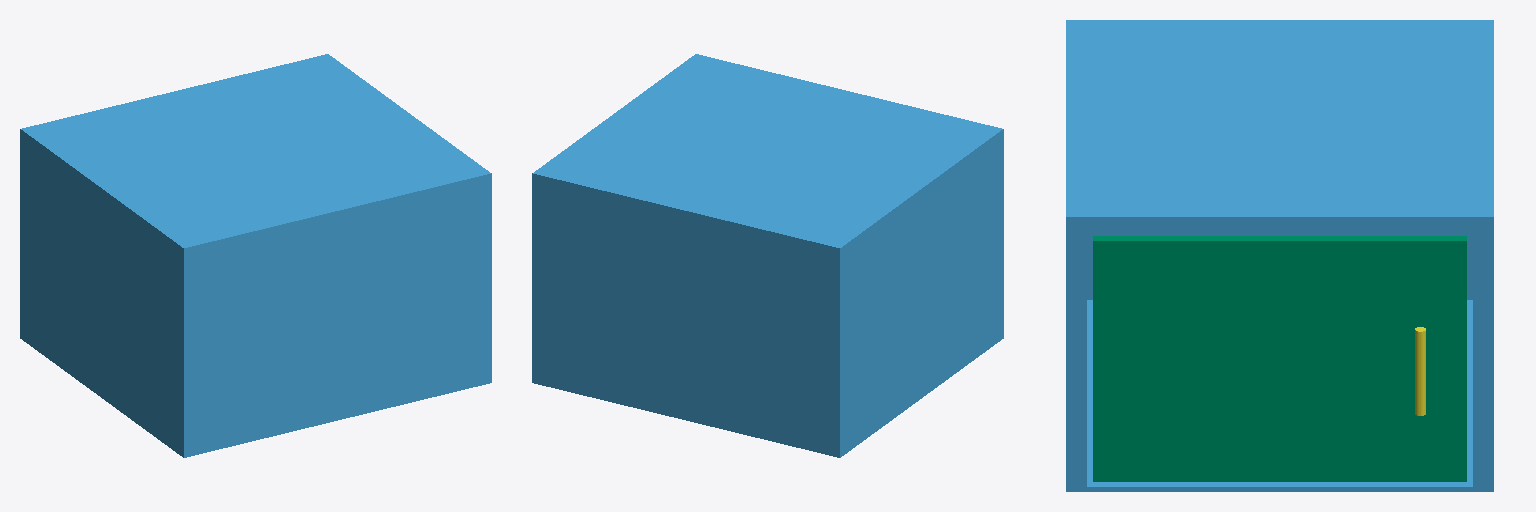
robot.urdf — my_cabinet:
<?xml version="1.0" ?>
<robot name="my_cabinet">
	<link name="world"/>
	<joint name="virtual_joint" type="fixed">
		<parent link="world"/>
		<child link="base_cabinet_link"/>
		<origin xyz="0.0 0.0 0.0" rpy="0.0 0.0 0.0"/>
	</joint>
	<link name="base_cabinet_link">
		<visual>
			<origin xyz="0.0 0.0 -0.12123254858449616" rpy="0.0 0.0 0.0"/>
			<geometry>
				<box size="0.4 0.3678464520734214 0.004"/>
			</geometry>
		</visual>
		<collision name="base_cabinet_link_collision_0">
			<origin xyz="0.0 0.0 -0.12123254858449616" rpy="0.0 0.0 0.0"/>
			<geometry>
				<box size="0.4 0.3678464520734214 0.004"/>
			</geometry>
		</collision>
		<visual>
			<origin xyz="0.0 0.1749232260367107 0.007" rpy="0.0 0.0 0.0"/>
			<geometry>
				<box size="0.4 0.018 0.2604650971689923"/>
			</geometry>
		</visual>
		<collision name="base_cabinet_link_collision_1">
			<origin xyz="0.0 0.1749232260367107 0.007" rpy="0.0 0.0 0.0"/>
			<geometry>
				<box size="0.4 0.018 0.2604650971689923"/>
			</geometry>
		</collision>
		<visual>
			<origin xyz="0.0 -0.1749232260367107 0.007" rpy="0.0 0.0 0.0"/>
			<geometry>
				<box size="0.4 0.018 0.2604650971689923"/>
			</geometry>
		</visual>
		<collision name="base_cabinet_link_collision_2">
			<origin xyz="0.0 -0.1749232260367107 0.007" rpy="0.0 0.0 0.0"/>
			<geometry>
				<box size="0.4 0.018 0.2604650971689923"/>
			</geometry>
		</collision>
		<visual>
			<origin xyz="0.0 0.0 0.12823254858449615" rpy="0.0 0.0 0.0"/>
			<geometry>
				<box size="0.4 0.3678464520734214 0.018"/>
			</geometry>
		</visual>
		<collision name="base_cabinet_link_collision_3">
			<origin xyz="0.0 0.0 0.12823254858449615" rpy="0.0 0.0 0.0"/>
			<geometry>
				<box size="0.4 0.3678464520734214 0.018"/>
			</geometry>
		</collision>
		<visual>
			<origin xyz="-0.191 0.0 0.007" rpy="0.0 0.0 0.0"/>
			<geometry>
				<box size="0.018 0.3678464520734214 0.2604650971689923"/>
			</geometry>
		</visual>
		<collision name="base_cabinet_link_collision_4">
			<origin xyz="-0.191 0.0 0.007" rpy="0.0 0.0 0.0"/>
			<geometry>
				<box size="0.018 0.3678464520734214 0.2604650971689923"/>
			</geometry>
		</collision>
		<inertial>
			<mass value="0.200000"/>
			<inertia ixx="0.003386" ixy="0.0" ixz="0.0" iyy="0.003797" iyz="0.0" izz="0.004922"/>
		</inertial>
	</link>
	<link name="door_link">
		<visual>
			<origin xyz="0.0 -0.1509232260367107 0.0"/>
			<geometry>
				<box size="0.018 0.32184645207342144 0.2284650971689923"/>
			</geometry>
		</visual>
		<collision name="door_link_collision">
			<origin xyz="0.0 -0.1509232260367107 0.0"/>
			<geometry>
				<box size="0.018 0.32184645207342144 0.2284650971689923"/>
			</geometry>
		</collision>
		<inertial>
			<mass value="0.200000"/>
			<inertia ixx="0.002596" ixy="0.0" ixz="0.0" iyy="0.000875" iyz="0.0" izz="0.001732"/>
		</inertial>
	</link>
	<joint name="door_joint" type="revolute">
		<origin xyz="0.191 -0.1509232260367107 0.0" rpy="0.000000 -0.000000 3.141593"/>
		<axis xyz="0 0 1"/>
		<parent link="base_cabinet_link"/>
		<child link="door_link"/>
		<limit effort="50" lower="0" upper="-1.5707963267948966" velocity="10"/>
		<dynamics friction="1.0"/>
	</joint>
	<link name="handle_link">
		<visual>
			<origin xyz="0.0 0.0 0.0" rpy="0.0 0.0 0.0"/>
			<geometry>
				<cylinder length="0.08" radius="0.005"/>
			</geometry>
		</visual>
		<collision name="handle_link_collision_0">
			<origin xyz="0.0 0.0 0.0" rpy="0.0 0.0 0.0"/>
			<geometry>
				<cylinder length="0.08" radius="0.005"/>
			</geometry>
		</collision>
		<visual>
			<origin xyz="-0.01 0.0 0.02" rpy="0.0 1.5707963267948966 0.0"/>
			<geometry>
				<cylinder length="0.02" radius="0.003"/>
			</geometry>
		</visual>
		<collision name="handle_link_collision_1">
			<origin xyz="-0.01 0.0 0.02" rpy="0.0 1.5707963267948966 0.0"/>
			<geometry>
				<cylinder length="0.01" radius="0.003"/>
			</geometry>
		</collision>
		<visual>
			<origin xyz="-0.01 0.0 -0.02" rpy="0.0 1.5707963267948966 0.0"/>
			<geometry>
				<cylinder length="0.02" radius="0.003"/>
			</geometry>
		</visual>
		<collision name="handle_link_collision_2">
			<origin xyz="-0.01 0.0 -0.02" rpy="0.0 1.5707963267948966 0.0"/>
			<geometry>
				<cylinder length="0.02" radius="0.003"/>
			</geometry>
		</collision>
		<inertial>
			<mass value="0.050000"/>
			<inertia ixx="0.000027" ixy="0.0" ixz="0.0" iyy="0.000029" iyz="0.0" izz="0.000003"/>
		</inertial>
	</link>
	<joint name="handle_joint" type="fixed">
		<origin xyz="-0.028999999999999998 -0.27184645207342145 0.0" rpy="0.000000 -0.000000 3.141593"/>
		<parent link="door_link"/>
		<child link="handle_link"/>
	</joint>
	<gazebo reference="base_cabinet_link">
		<sensor name="main_sensor" type="contact">
			<selfCollide>true</selfCollide>
			<alwaysOn>true</alwaysOn>
			<updateRate>5.0</updateRate>
			<material>Gazebo/Red</material>
			<contact>
				<collision>base_cabinet_link_collision_0_collision</collision>
				<collision>base_cabinet_link_collision_1_collision</collision>
				<collision>base_cabinet_link_collision_2_collision</collision>
				<collision>base_cabinet_link_collision_3_collision</collision>
				<collision>base_cabinet_link_collision_4_collision</collision>
			</contact>
			<plugin name="gazebo_ros_bumper_controller" filename="libgazebo_ros_bumper.so">
				<bumperTopicName>/contact</bumperTopicName>
				<frameName>world</frameName>
			</plugin>
		</sensor>
	</gazebo>
	<gazebo reference="door_link">
		<sensor name="main_sensor" type="contact">
			<selfCollide>true</selfCollide>
			<alwaysOn>true</alwaysOn>
			<updateRate>5.0</updateRate>
			<material>Gazebo/Red</material>
			<contact>
				<collision>door_link_collision_collision</collision>
			</contact>
			<plugin name="gazebo_ros_bumper_controller" filename="libgazebo_ros_bumper.so">
				<bumperTopicName>/contact_door</bumperTopicName>
				<frameName>contact_door</frameName>
			</plugin>
		</sensor>
	</gazebo>
</robot>

--- What the picture shows (computed from the rendered views, not written in the file) ---
3 views of the same robot in one strip: view 1: azimuth 30°, elevation 25°; view 2: azimuth 150°, elevation 25°; view 3: azimuth 270°, elevation 25° (orthographic).
Robot: my_cabinet — 4 links, 3 joints (1 revolute, 2 fixed); root link world; default pose: all joints at 0.
Links seen in each view (by area): view 1: base_cabinet_link; view 2: base_cabinet_link; view 3: base_cabinet_link, door_link, handle_link.
Boxes of the visible links, <box> form: base_cabinet_link: <box>20,54,491,457</box>; base_cabinet_link: <box>532,54,1003,457</box>; base_cabinet_link: <box>1066,20,1493,491</box>; door_link: <box>1093,236,1466,481</box>; handle_link: <box>1415,327,1425,415</box>.
Size in the robot's own frame: 0.425 by 0.3678 by 0.2605 metres.
Geometry: primitives only (box / cylinder / sphere), no mesh files.
